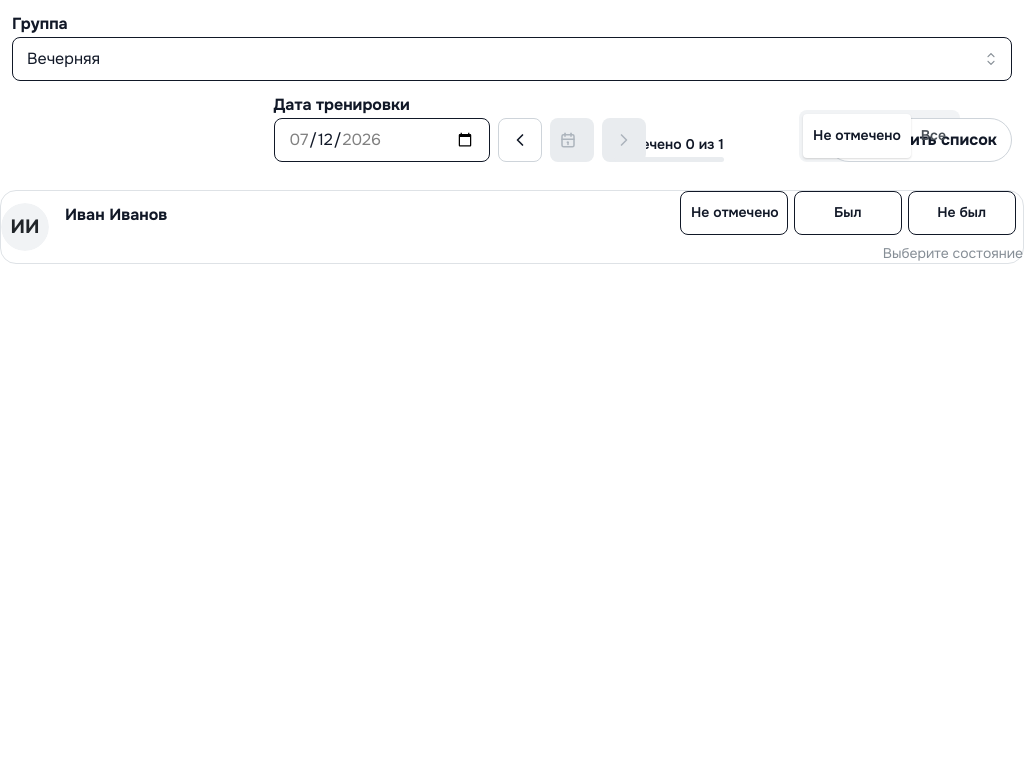
Scenario: AttendanceWorkspace › keeps a saved row and exposes stale retry when refresh after save fails
The image size is (1036, 768).
Expected: the element named "Посещение: Иван Иванов" is shown, [680,191,1023,235]
Click the radio button "Был" at (848, 213), box [794,191,902,235]
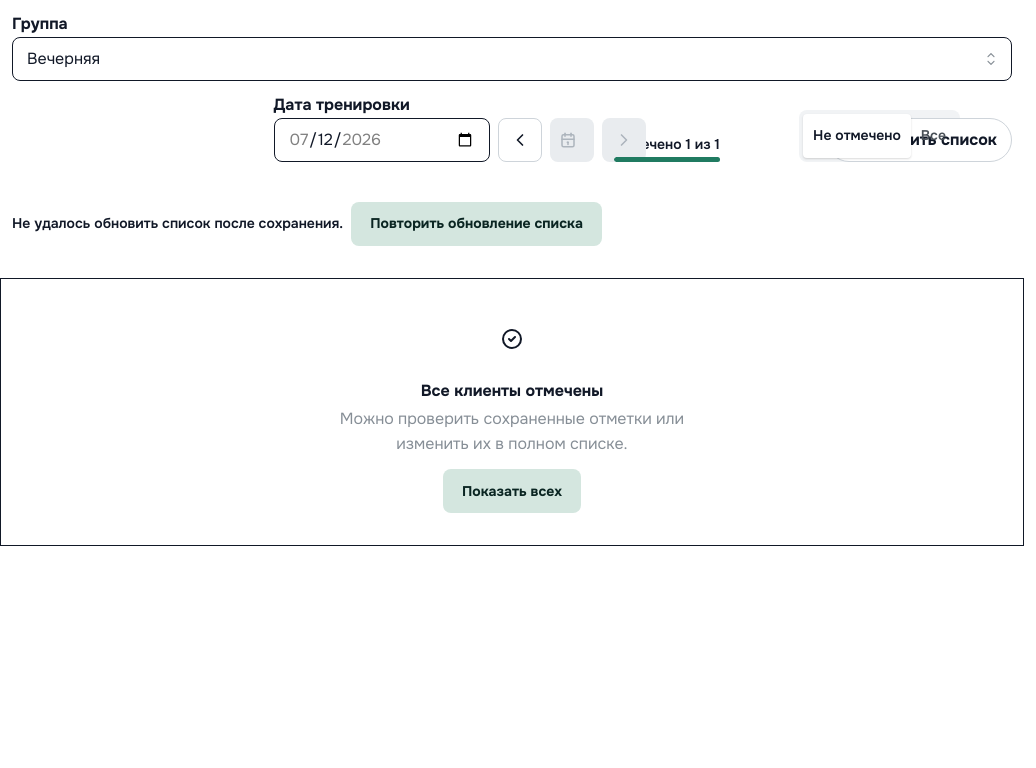
Expected: the text "Все клиенты отмечены" is shown, [421,379,603,403]
Expected: the text "Не удалось обновить список после сохранения." is shown, [12,213,343,234]
Click the button "Показать всех" at (512, 491), box [443,469,581,513]
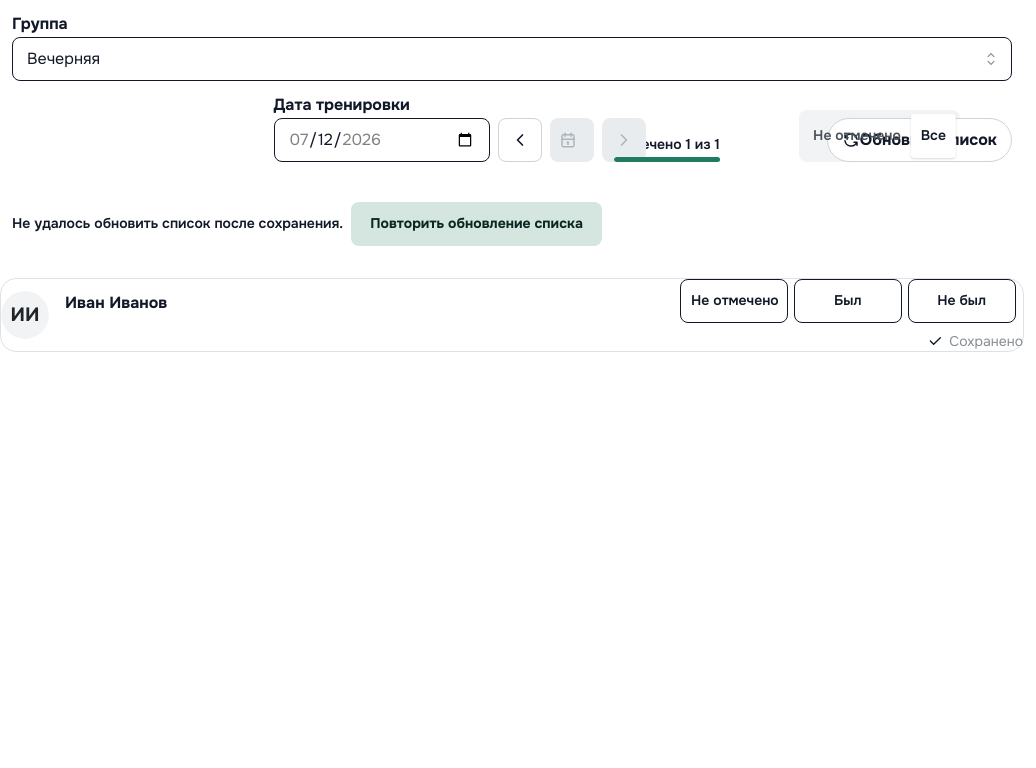
Expected: the radio button labelled "Был" is checked, [794,279,902,323]
Expected: the text "Сохранено" is shown, [949,331,1023,351]
Click the button "Повторить обновление списка" at (477, 224), box [351,202,602,246]
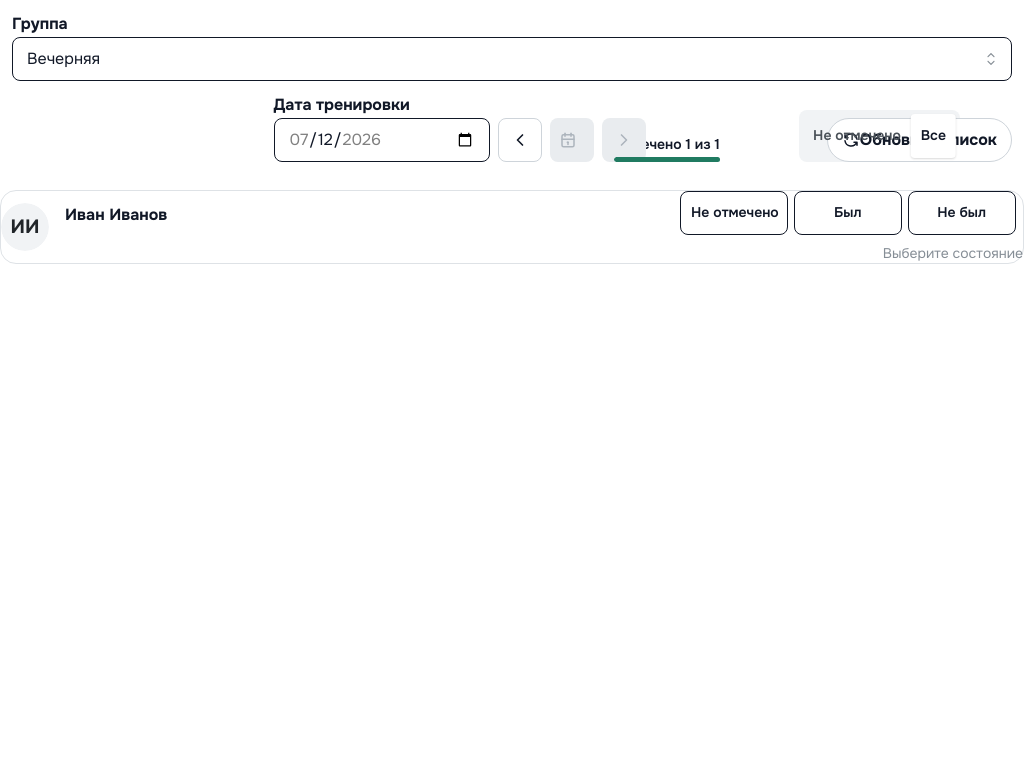
Expected: the radio button labelled "Был" is checked, [794,191,902,235]
Expected: the text "Не удалось обновить список после сохранения." is gone
